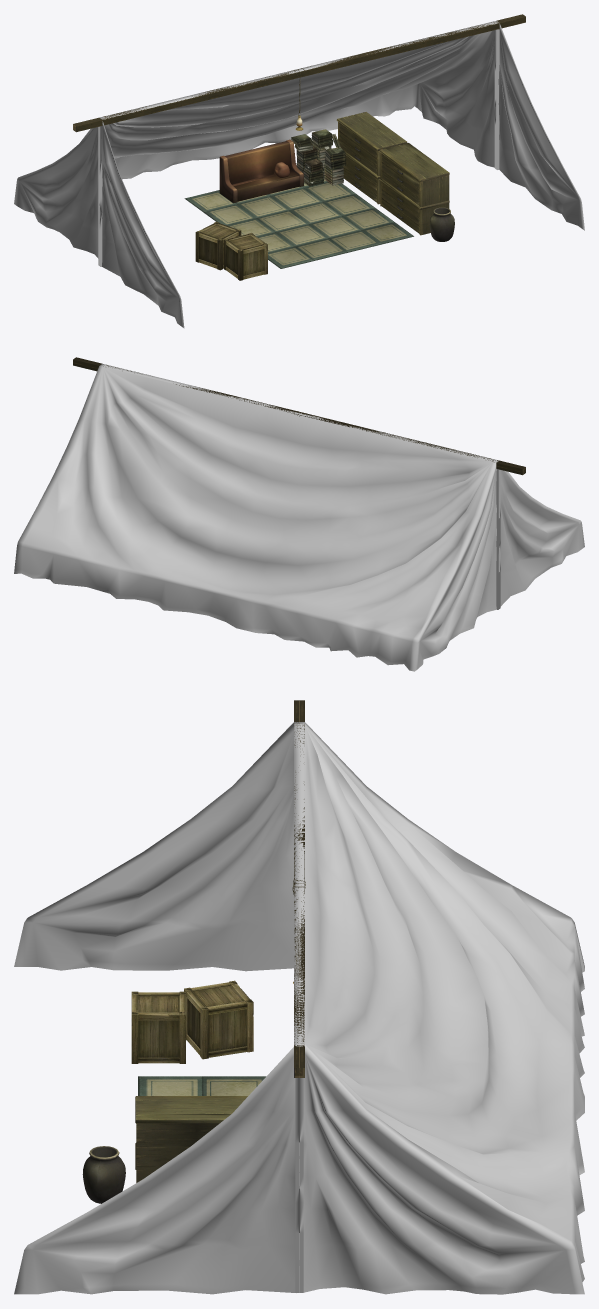
Rendered from tent.FBX.
3 views of the same model, one above another, from view 1: azimuth 30°, elevation 25°; view 2: azimuth 150°, elevation 25°; view 3: azimuth 270°, elevation 25° (orthographic). The views are drawn at different scales.
Parts seen in each view (by area): view 1: tent_tent, tent_furniture, tent_carpet, tent_sofa, tent_books; view 2: tent_tent, tent_furniture; view 3: tent_tent, tent_furniture, tent_carpet, tent_sofa.
Part boxes in pixels (bbox=[...]): tent_tent: bbox=[14, 20, 584, 328]; tent_furniture: bbox=[73, 14, 525, 280]; tent_carpet: bbox=[184, 179, 413, 268]; tent_sofa: bbox=[219, 68, 454, 241]; tent_books: bbox=[291, 129, 345, 186]; tent_tent: bbox=[14, 363, 584, 671]; tent_furniture: bbox=[73, 357, 525, 475]; tent_tent: bbox=[14, 722, 584, 1294]; tent_furniture: bbox=[131, 700, 304, 1182]; tent_carpet: bbox=[138, 1076, 265, 1095]; tent_sofa: bbox=[82, 879, 305, 1203].
Size of the model in its own units: 616 by 193 by 404.
